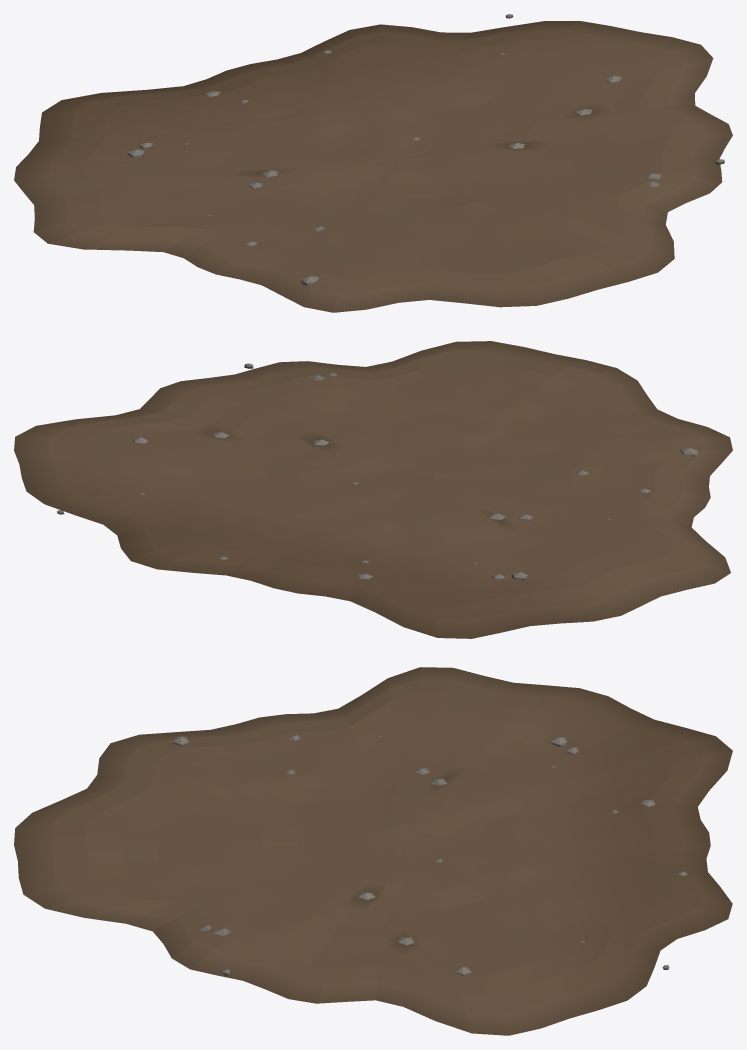
Rendered from cave_apron.glb.
3 renders of one model, top to bottom at view 1: azimuth 30°, elevation 25°; view 2: azimuth 150°, elevation 25°; view 3: azimuth 270°, elevation 25°, orthographic. The views are drawn at different scales.
Visible parts, largest first — view 1: cave_apron_LOD0; view 2: cave_apron_LOD0; view 3: cave_apron_LOD0.
Boxes of the visible parts, left/top/right/bottom form: cave_apron_LOD0: left=14, top=14, right=732, bottom=312; cave_apron_LOD0: left=14, top=341, right=732, bottom=638; cave_apron_LOD0: left=14, top=667, right=732, bottom=1035.
Size of what is drawn, in the model's own units: 8.79 by 0.1457 by 7.24.
